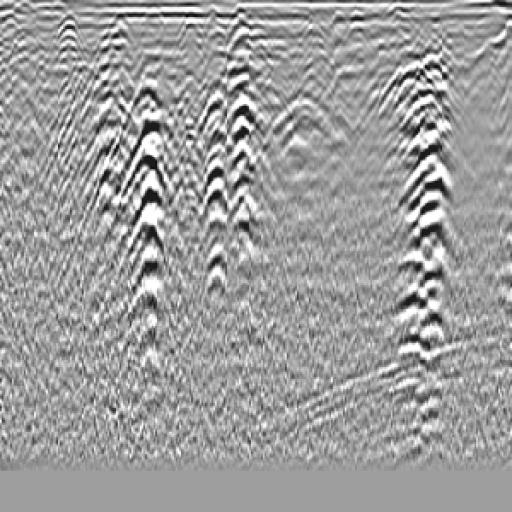metalic: (256, 84, 356, 177)
